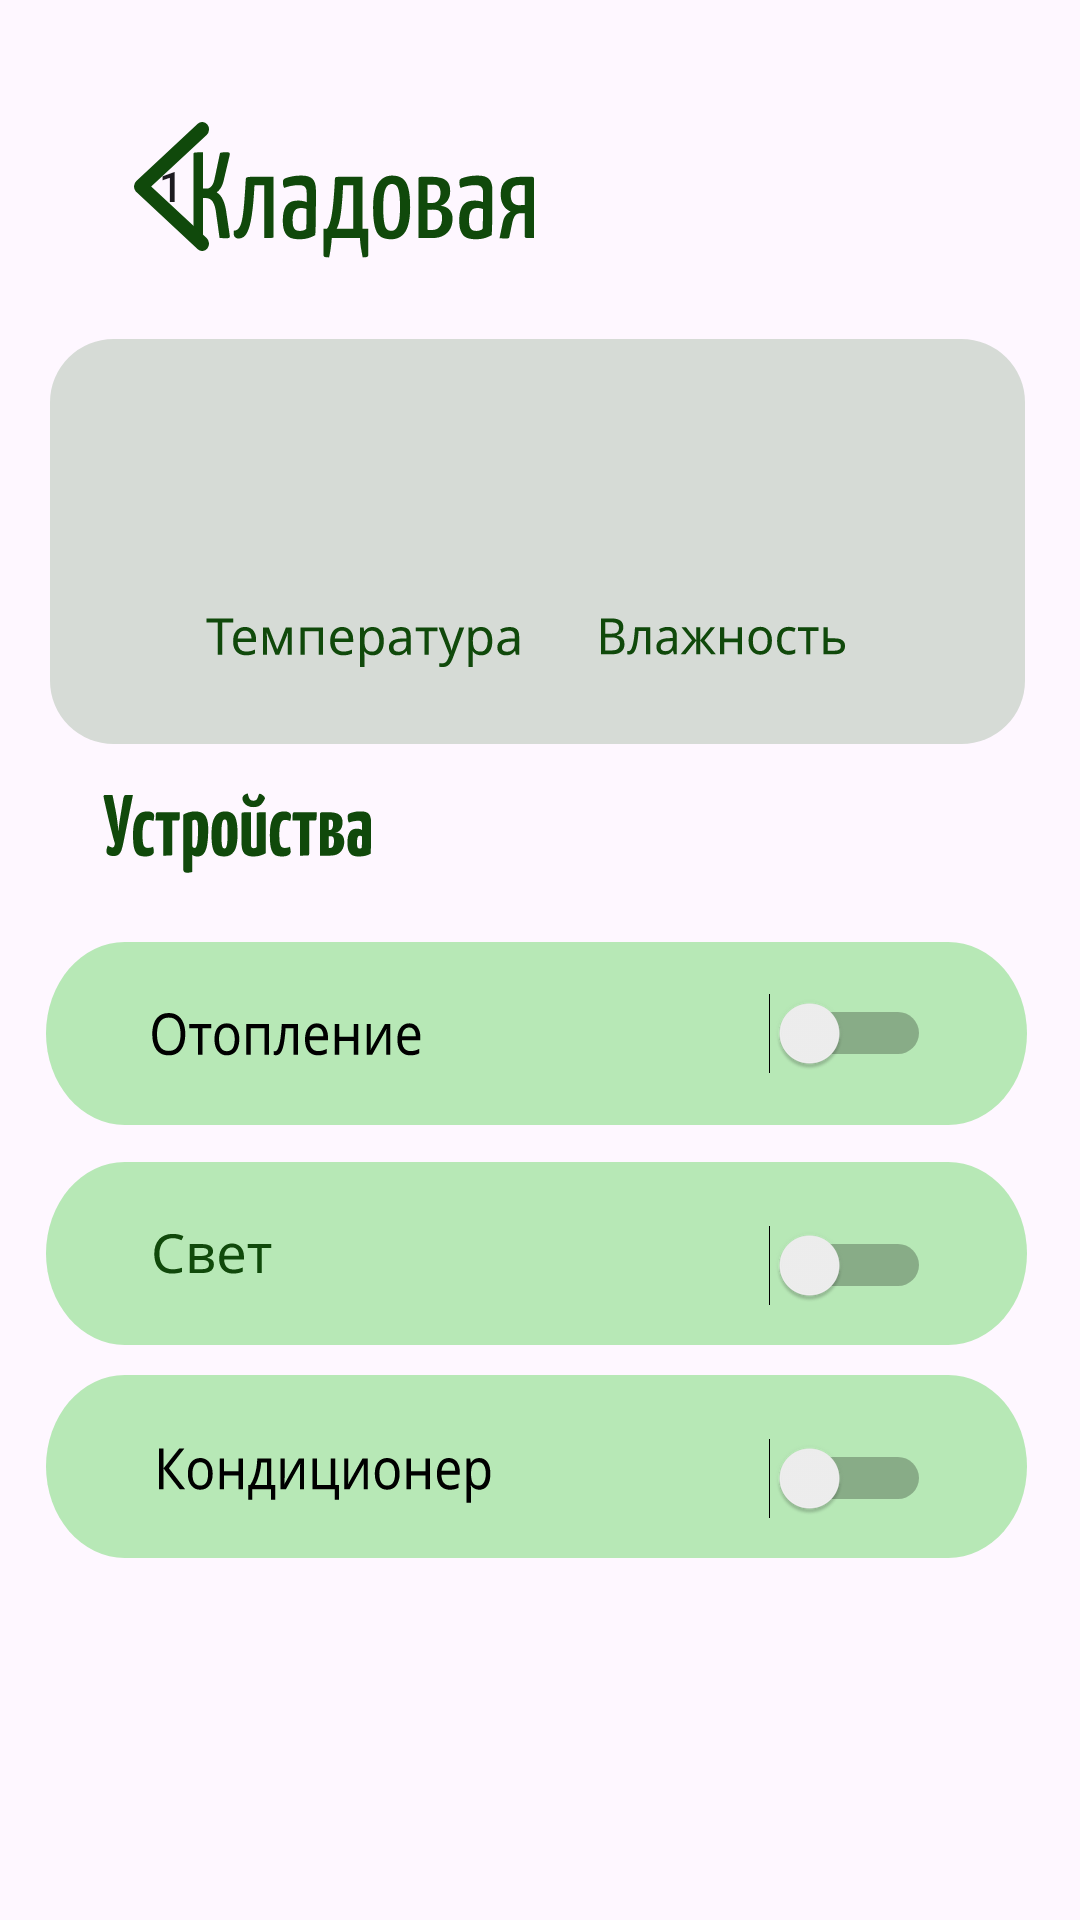

Named icons in this screenshot (1080px x 1920px) and their centers, point (x, y):
back: point (171, 186)
